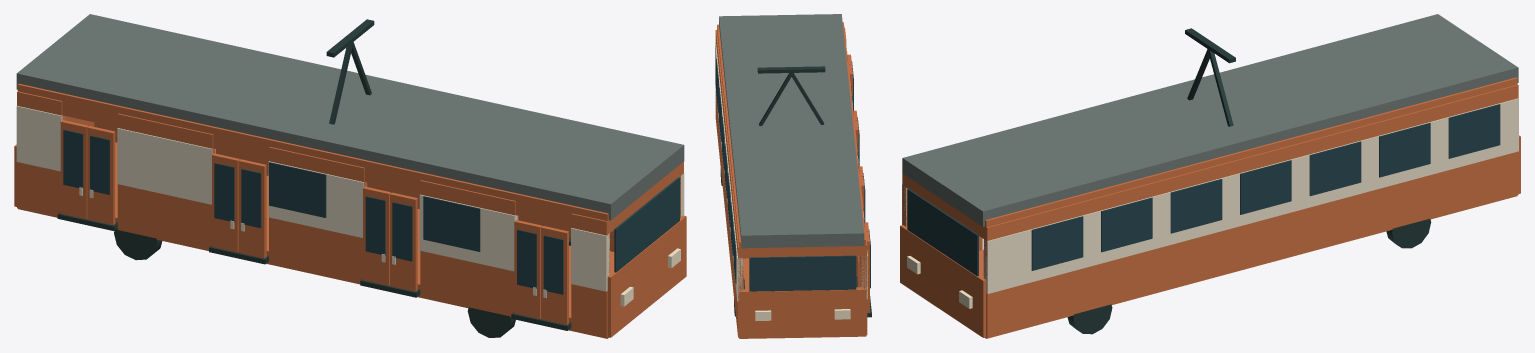
The model's file is tram-compact.glb.
The picture shows the model from 3 angles, left to right: view 1: azimuth 30°, elevation 25°; view 2: azimuth 150°, elevation 25°; view 3: azimuth 270°, elevation 25°; orthographic projection. The views are drawn at different scales.
Visible parts, largest first — view 1: Компактный, Правая раздвижная дверь (×8); view 2: Компактный, Правая раздвижная дверь (×3); view 3: Компактный.
Boxes of the visible parts, left/top/right/bottom form: Компактный: left=14, top=14, right=686, bottom=338; Правая раздвижная дверь (×8): left=60, top=120, right=568, bottom=324; Компактный: left=715, top=14, right=871, bottom=338; Правая раздвижная дверь (×3): left=854, top=120, right=870, bottom=312; Компактный: left=900, top=14, right=1520, bottom=338.
Size of the model in its own units: 9.76 by 5 by 12.81.
